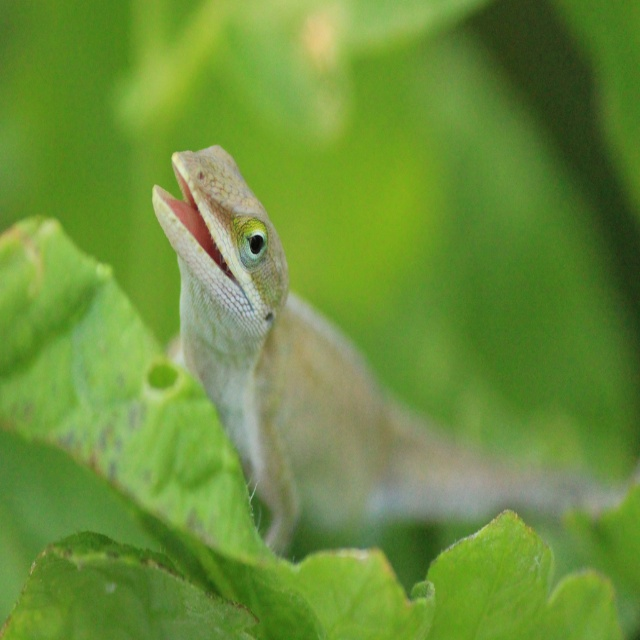Lizard: (151, 141, 624, 558)
